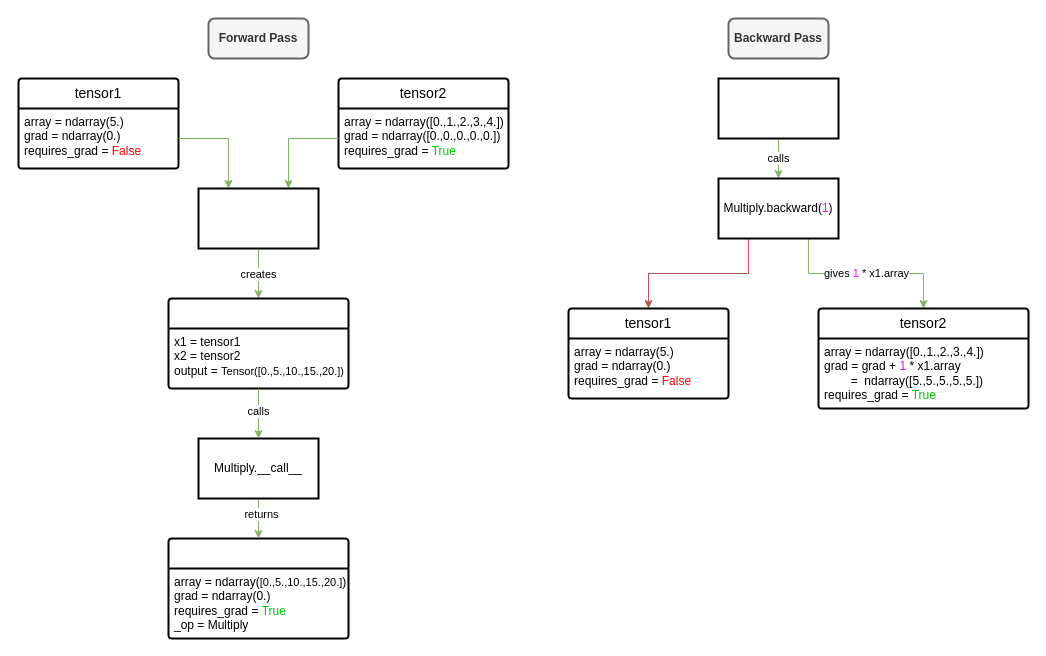
Some shapes in this 1046 by 656 pixel diagram are drawn without their labels. The shapes that lost their labels are listed below. From the top down, each one's box as (x1, y1, x2, y2) in pixels, then its label:
(717, 77, 839, 139): tensor3.backward( 1 )
(197, 187, 319, 249): multiply(tensor1, tensor2)
(167, 297, 349, 389): Multiply
(167, 537, 349, 639): tensor3
